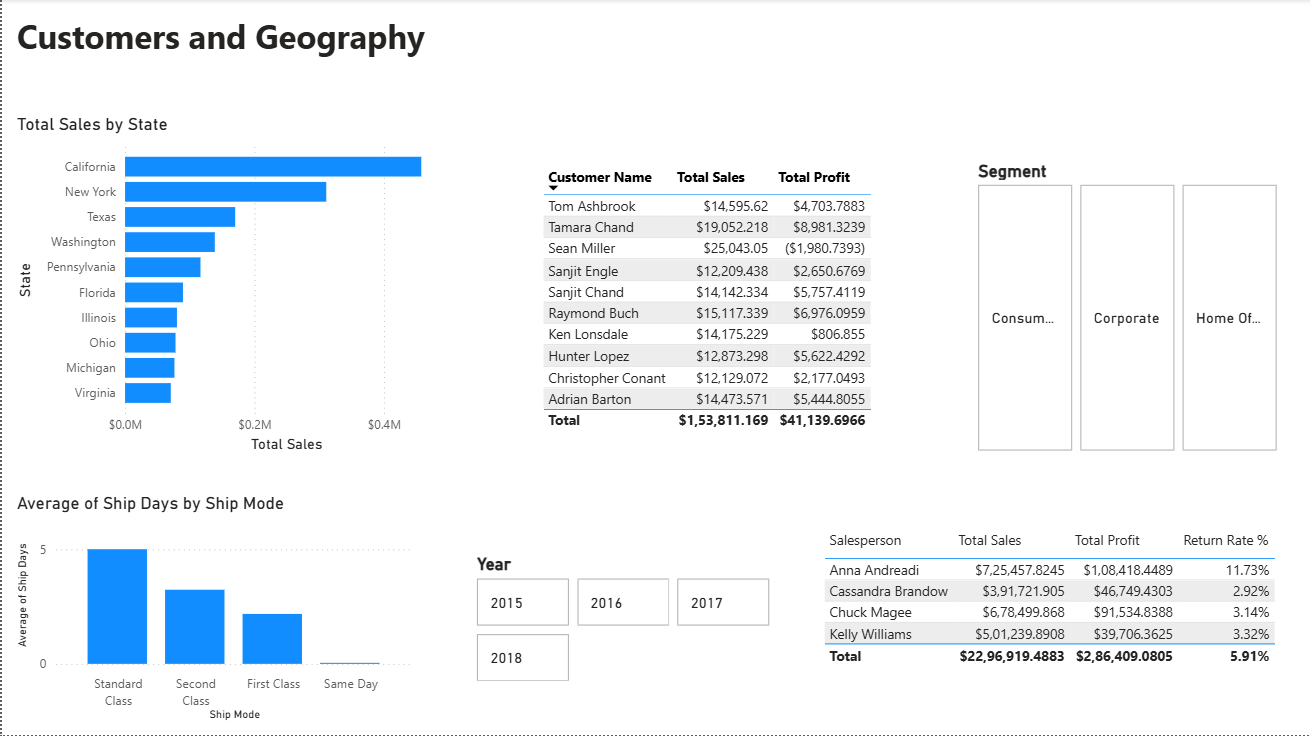

The dashboard page shown, as its layout file describes it:
{"tool":"powerbi","page":{"name":"Customers and Geography","canvas":[1280,720],"ordinal":2},"visuals":[{"type":"textbox","box":[9.6,0,1270.7,60.4],"z":0},{"type":"textbox","box":[10,10,1270,62.9],"z":1000},{"type":"clusteredBarChart","fields":{"Category":["Orders.State"],"Y":["Orders.Total Sales"]},"box":[9.9,112.3,449.4,335.8],"z":2000},{"type":"tableEx","fields":{"Values":["Orders.Customer Name","Orders.Total Sales","Orders.Total Profit"]},"box":[523.5,158,366.7,290.1],"z":3000},{"type":"clusteredColumnChart","fields":{"Category":["Orders.Ship Mode"],"Y":["Avg(Orders.Ship Days)"]},"box":[9.9,482.7,397.5,228.4],"z":4000},{"type":"tableEx","fields":{"Values":["People.Salesperson","Orders.Total Sales","Orders.Total Profit","Orders.Return Rate %"]},"box":[798.8,513.6,456.8,167.9],"z":5000},{"type":"advancedSlicerVisual","fields":{"Values":["DimDate.Year"]},"box":[459.3,543.2,296.3,129.6],"z":6000},{"type":"advancedSlicerVisual","fields":{"Values":["Orders.Segment"]},"box":[950.6,158,304.9,290.1],"z":7000}]}

Visuals, with their boxes in screenshot pixels (x1, y1, x2, y2), scaled from the page's 1280x720 canvas onto the 1310x737 screenshot:
textbox: bbox=[10, 0, 1309, 62]
textbox: bbox=[10, 10, 1309, 75]
clusteredBarChart - Orders.State x Orders.Total Sales: bbox=[10, 115, 470, 459]
tableEx - Orders.Customer Name x Orders.Total Sales: bbox=[536, 162, 911, 459]
clusteredColumnChart - Orders.Ship Mode x Avg(Orders.Ship Days): bbox=[10, 494, 417, 728]
tableEx - People.Salesperson x Orders.Total Sales: bbox=[818, 526, 1285, 698]
advancedSlicerVisual - DimDate.Year: bbox=[470, 556, 773, 689]
advancedSlicerVisual - Orders.Segment: bbox=[973, 162, 1285, 459]
